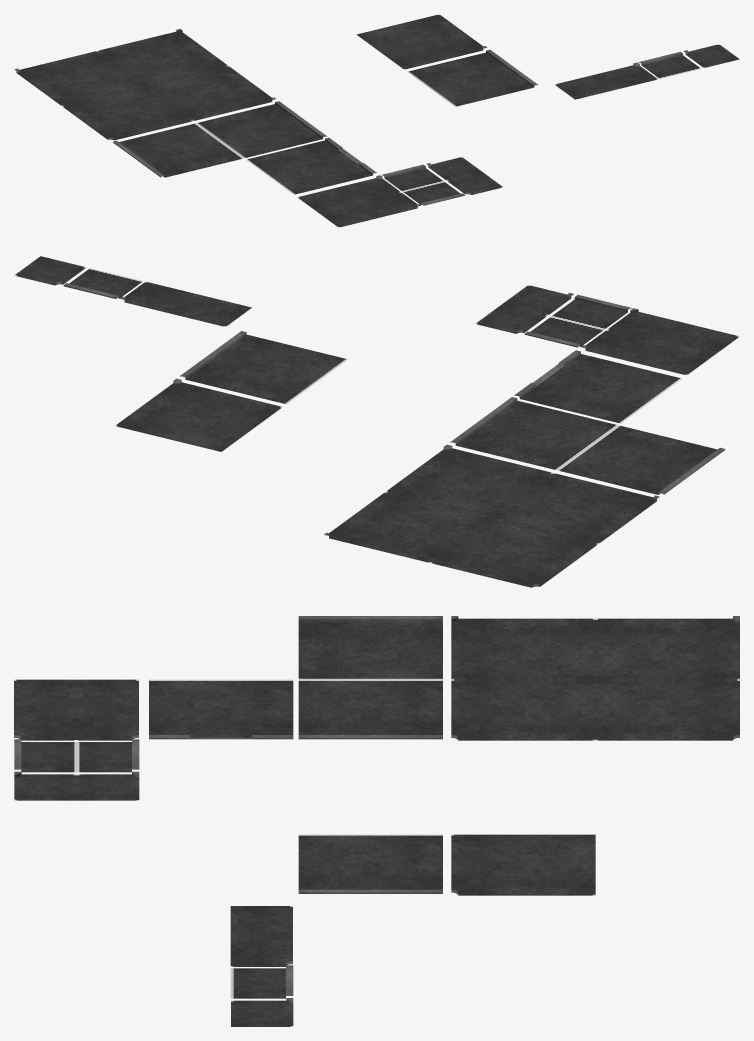
The model's file is roadTiles.fbx.
3 renders of one model, top to bottom at view 1: azimuth 30°, elevation 25°; view 2: azimuth 150°, elevation 25°; view 3: azimuth 270°, elevation 25°, orthographic. The views are drawn at different scales.
Parts seen in each view (by area): view 1: MainCross, MainRoad, MainPart, MainRoadPave, CrossPart, SubCross, Subroad, SubCrossPart, SubRoad2, SubRoadPart, SubCross2Part; view 2: MainCross, MainRoad, MainPart, MainRoadPave, CrossPart, SubCross, Subroad, SubCrossPart, SubRoad2, SubRoadPart, SubCross2Part; view 3: MainCross, MainRoad, CrossPart, MainRoadPave, MainPart, SubCross, Subroad, SubCrossPart, SubRoad2, SubRoadPart, SubCross2Part.
Boxes of the visible parts, x1=… form: MainCross: x1=14, y1=29, x2=275, y2=140; MainRoad: x1=113, y1=101, x2=327, y2=177; MainPart: x1=407, y1=49, x2=537, y2=106; MainRoadPave: x1=246, y1=137, x2=376, y2=194; CrossPart: x1=356, y1=14, x2=486, y2=69; SubCross: x1=297, y1=175, x2=421, y2=227; Subroad: x1=382, y1=164, x2=464, y2=205; SubCrossPart: x1=554, y1=62, x2=657, y2=99; SubRoad2: x1=426, y1=157, x2=502, y2=194; SubRoadPart: x1=639, y1=52, x2=700, y2=78; SubCross2Part: x1=683, y1=44, x2=739, y2=67; MainCross: x1=324, y1=444, x2=659, y2=587; MainRoad: x1=450, y1=397, x2=725, y2=494; MainPart: x1=180, y1=331, x2=347, y2=404; MainRoadPave: x1=514, y1=350, x2=681, y2=423; CrossPart: x1=115, y1=378, x2=282, y2=451; SubCross: x1=580, y1=308, x2=739, y2=375; Subroad: x1=524, y1=295, x2=631, y2=347; SubCrossPart: x1=119, y1=281, x2=251, y2=326; SubRoad2: x1=475, y1=285, x2=573, y2=333; SubRoadPart: x1=63, y1=268, x2=142, y2=298; SubCross2Part: x1=14, y1=256, x2=86, y2=285; MainCross: x1=451, y1=616, x2=739, y2=740; MainRoad: x1=298, y1=616, x2=442, y2=739; CrossPart: x1=451, y1=834, x2=595, y2=895; MainRoadPave: x1=149, y1=679, x2=293, y2=739; MainPart: x1=298, y1=834, x2=442, y2=893; SubCross: x1=14, y1=679, x2=138, y2=740; Subroad: x1=14, y1=739, x2=139, y2=772; SubCrossPart: x1=230, y1=906, x2=292, y2=966; SubRoad2: x1=14, y1=771, x2=139, y2=800; SubRoadPart: x1=230, y1=965, x2=293, y2=998; SubCross2Part: x1=231, y1=998, x2=293, y2=1026.
Bounding box in the file's own units: 372 × 1.17 × 280.
1 material, 1 textured.
